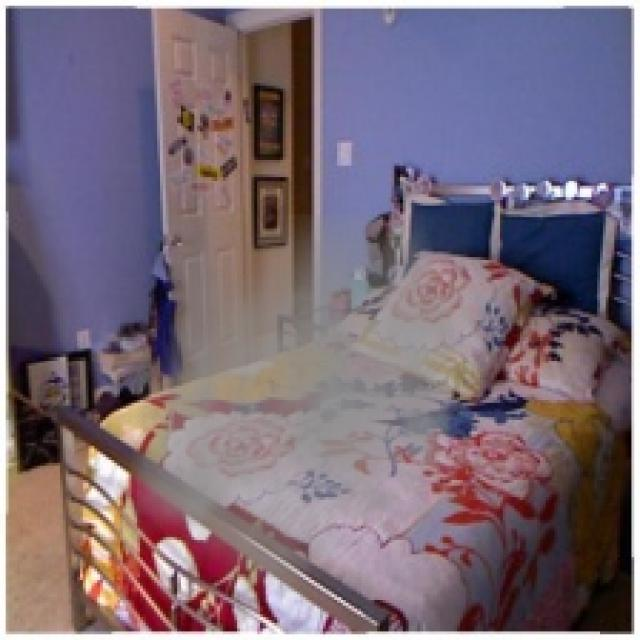smoke: (132, 214, 474, 603)
